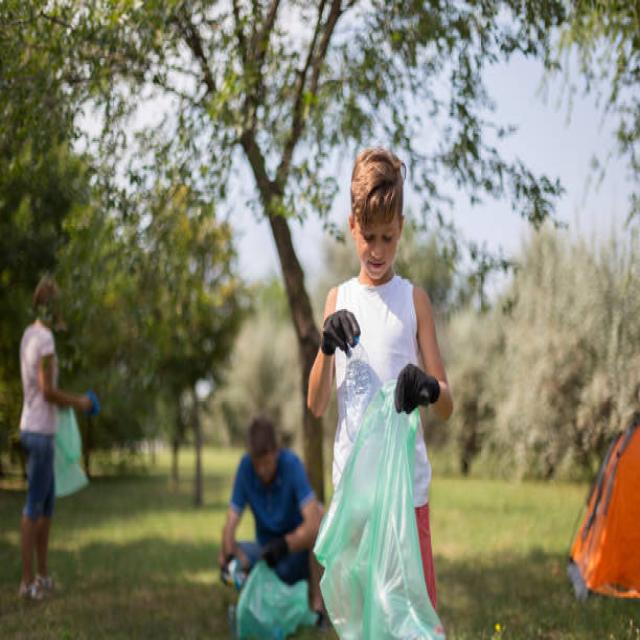plastic: (341, 344, 380, 400)
trash: (304, 406, 486, 624), (39, 416, 96, 502), (238, 574, 317, 628)
